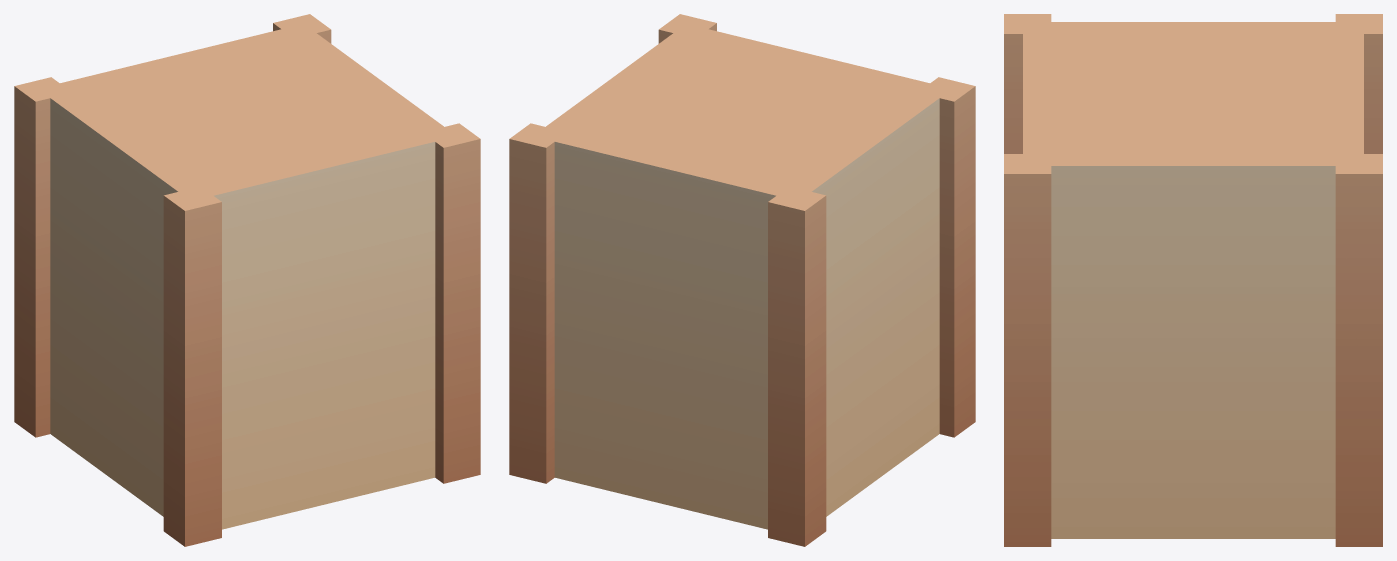
The model's file is tower-square-mid.glb.
3 views of the same model, side by side, from view 1: azimuth 30°, elevation 25°; view 2: azimuth 150°, elevation 25°; view 3: azimuth 270°, elevation 25° (orthographic). The views are drawn at different scales.
Visible parts, largest first — view 1: tower-square-mid; view 2: tower-square-mid; view 3: tower-square-mid.
Boxes of the visible parts, x1,y1,x2,y2 form: tower-square-mid: [14, 14, 480, 546]; tower-square-mid: [509, 14, 975, 546]; tower-square-mid: [1004, 14, 1382, 546].
Bounding box in the file's own units: 0.93 × 1.01 × 0.93.
1 material, 1 textured.
